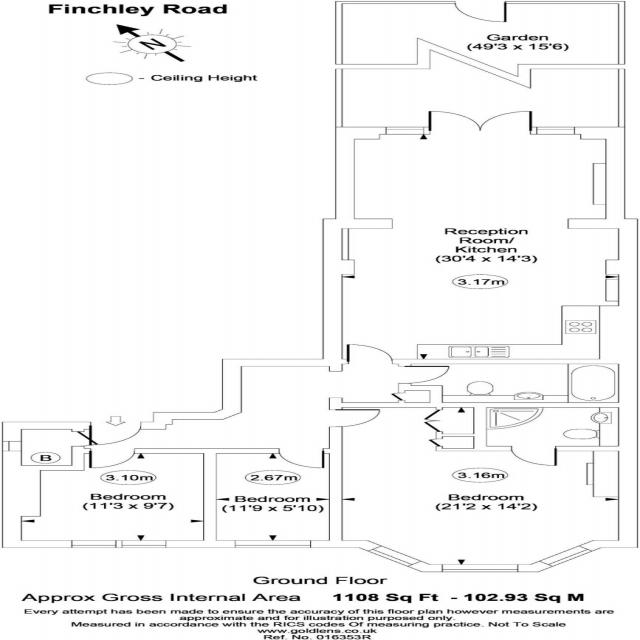DOOR: (87, 420, 147, 448), (325, 409, 387, 429), (506, 445, 561, 467), (345, 343, 397, 366), (274, 447, 326, 470), (87, 447, 139, 470), (396, 365, 454, 385)
DOUBLE DOOR: (424, 108, 535, 135)
ROOM: (321, 109, 640, 362), (325, 406, 639, 574), (0, 448, 219, 549), (199, 447, 346, 549)
WINDOW: (533, 544, 597, 569), (362, 544, 425, 568), (439, 563, 522, 573), (232, 539, 315, 549), (118, 539, 170, 550), (70, 539, 118, 549), (533, 126, 578, 136), (383, 126, 428, 135), (1, 441, 24, 452)
